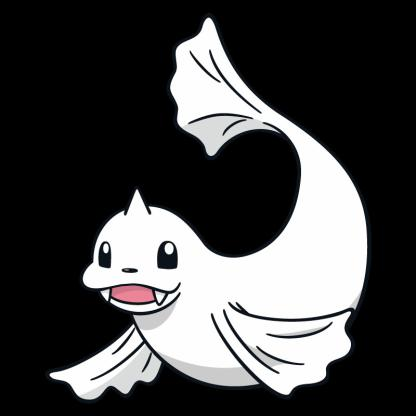Dewgong: (42, 11, 365, 400)
